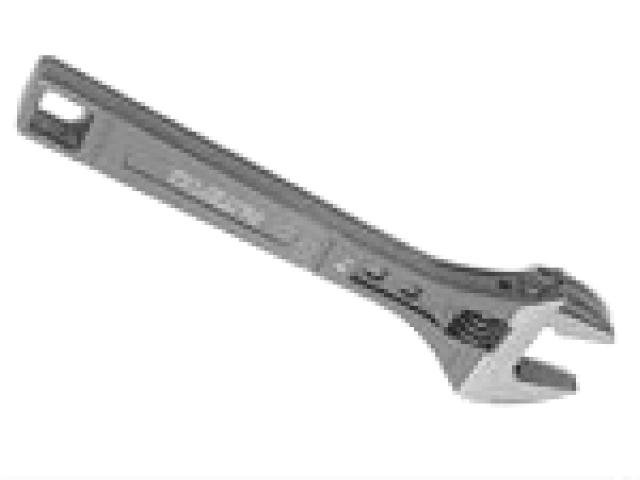Adjustable spanner: (19, 59, 614, 399)
